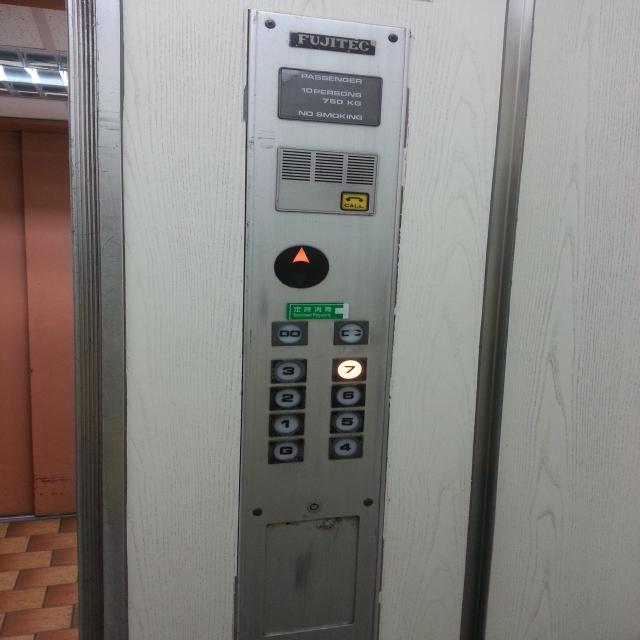1: (268, 412, 306, 437)
2: (269, 386, 306, 409)
3: (269, 358, 307, 383)
4: (327, 434, 365, 460)
5: (330, 409, 364, 433)
6: (331, 384, 366, 406)
7: (330, 356, 367, 383)
DO: (270, 319, 311, 347)
G: (268, 438, 306, 464)
call: (338, 190, 371, 214)
led: (271, 244, 333, 288)
unknown: (334, 320, 370, 347)
